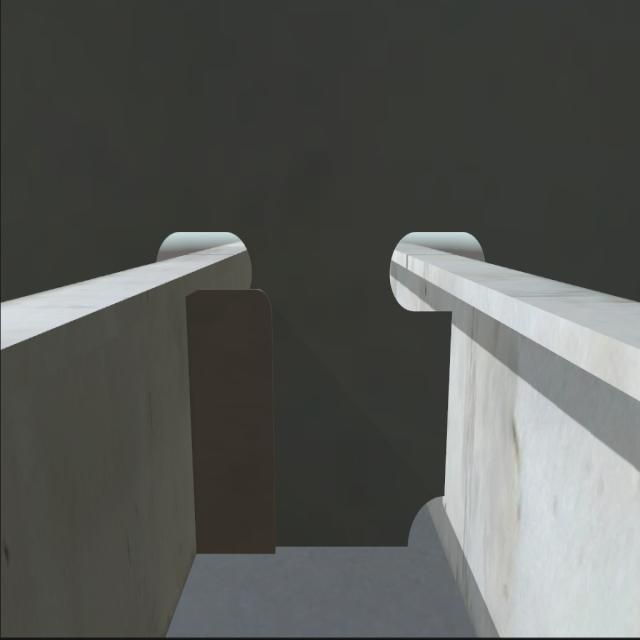fillet_hole: (405, 491, 447, 549)
fillet_yong_jeop_jang: (196, 537, 414, 562)
longi_yong_jeop_jang: (179, 285, 209, 559), (437, 307, 456, 501)
plate_CP05: (186, 292, 278, 550)
